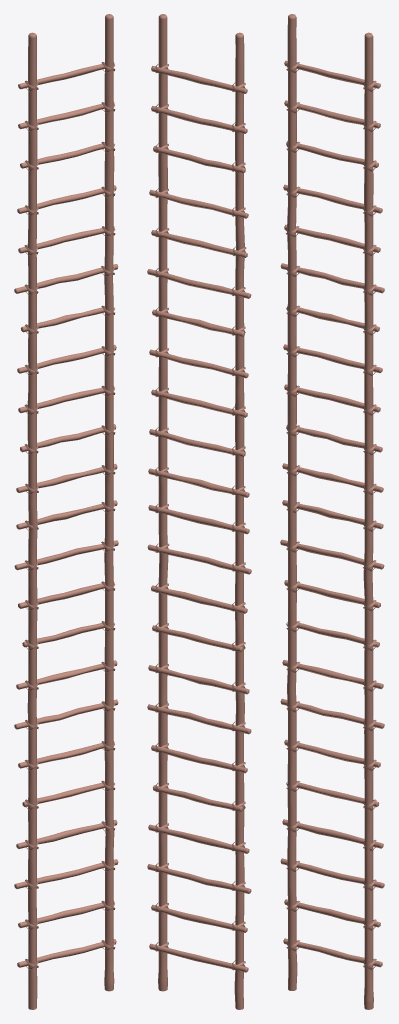
Rendered from Ladder_Vertical_x10_FBX.fbx.
3 renders of one model, left to right at view 1: azimuth 30°, elevation 25°; view 2: azimuth 150°, elevation 25°; view 3: azimuth 330°, elevation 25°, orthographic.
Visible parts, largest first — view 1: Ladder_Vertical_x10_Light, Ladder_Vertical_x10_Dark; view 2: Ladder_Vertical_x10_Light, Ladder_Vertical_x10_Dark; view 3: Ladder_Vertical_x10_Light, Ladder_Vertical_x10_Dark.
Boxes of the visible parts, x1=… form: Ladder_Vertical_x10_Light: x1=14, y1=14, x2=118, y2=1009; Ladder_Vertical_x10_Dark: x1=18, y1=15, x2=115, y2=1009; Ladder_Vertical_x10_Light: x1=147, y1=14, x2=251, y2=1009; Ladder_Vertical_x10_Dark: x1=152, y1=14, x2=247, y2=1008; Ladder_Vertical_x10_Light: x1=280, y1=14, x2=384, y2=1008; Ladder_Vertical_x10_Dark: x1=284, y1=15, x2=380, y2=1009.
Bounding box in the file's own units: 1.1 × 10 × 0.1614.
